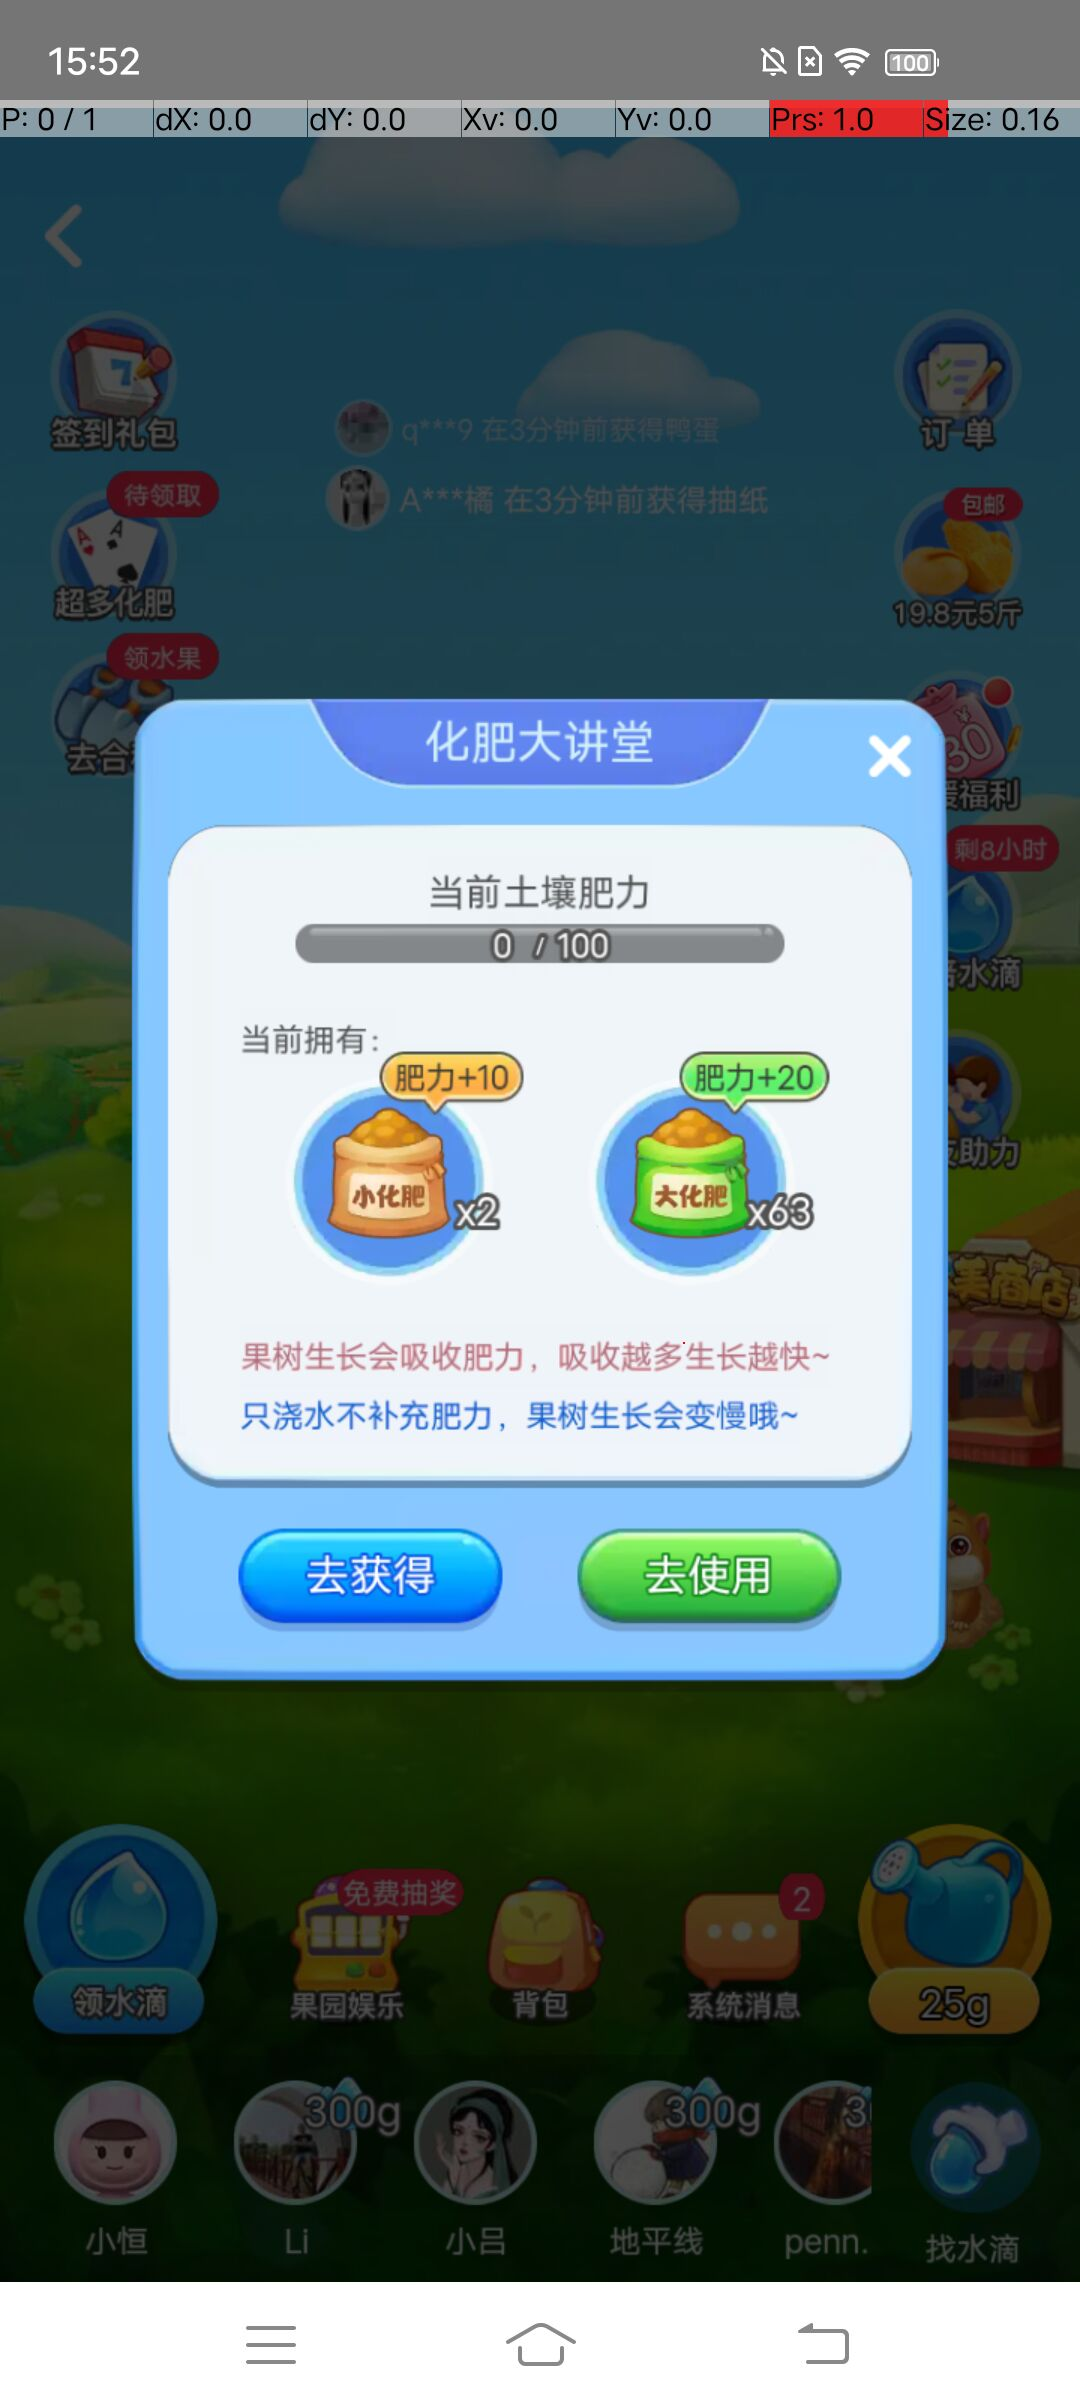popup: (866, 733, 919, 776)
